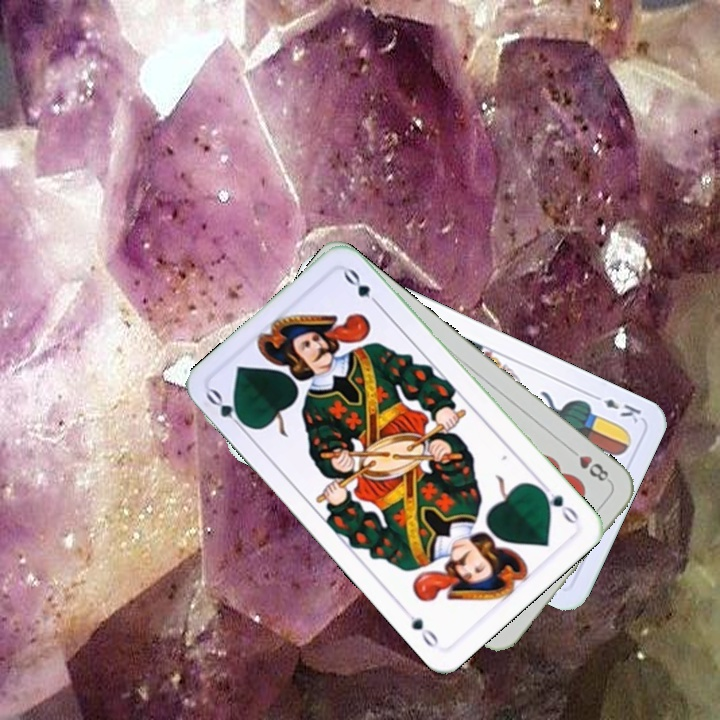EK: (587, 389, 644, 426)
GO: (202, 385, 252, 435), (534, 478, 582, 527)
H8: (564, 443, 614, 484)
